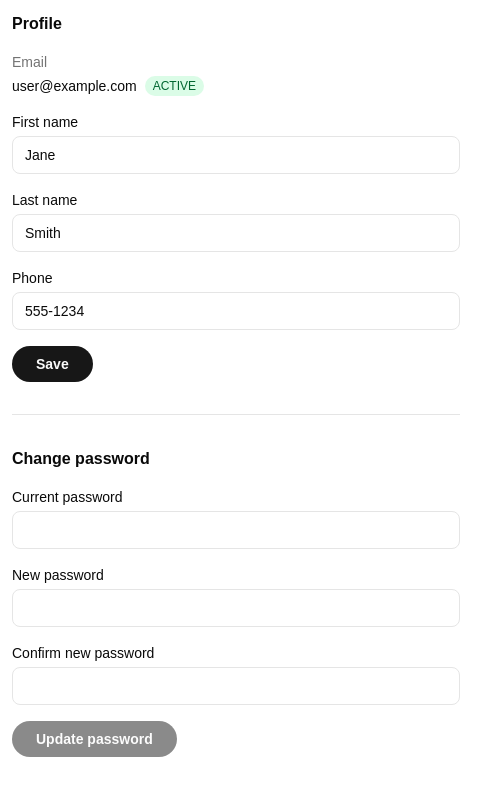
Test: ProfilePage › shows error message on save failure
Expected: the field showing "Jane" is shown, [12, 136, 460, 174]
What coordinates should you click on to do the following:
click the button "Save"
I would click on:
 (52, 364)
Its box is [12, 346, 93, 382].
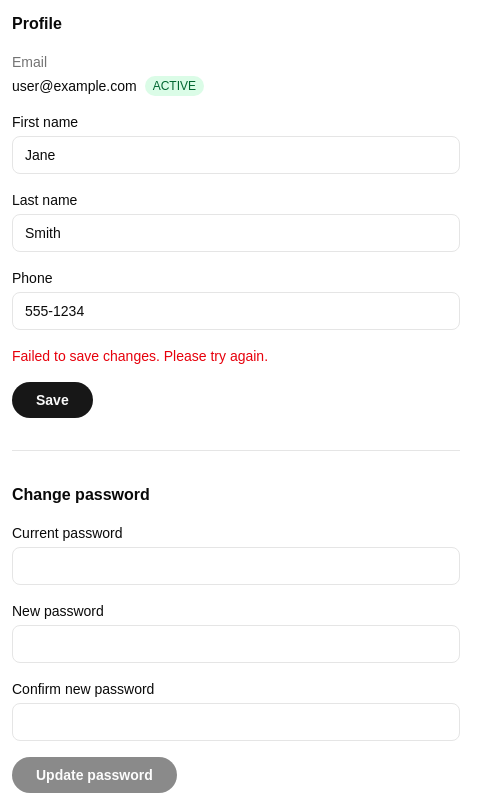
Now the text "Failed to save changes. Please try again." is shown, box [12, 348, 268, 364]
